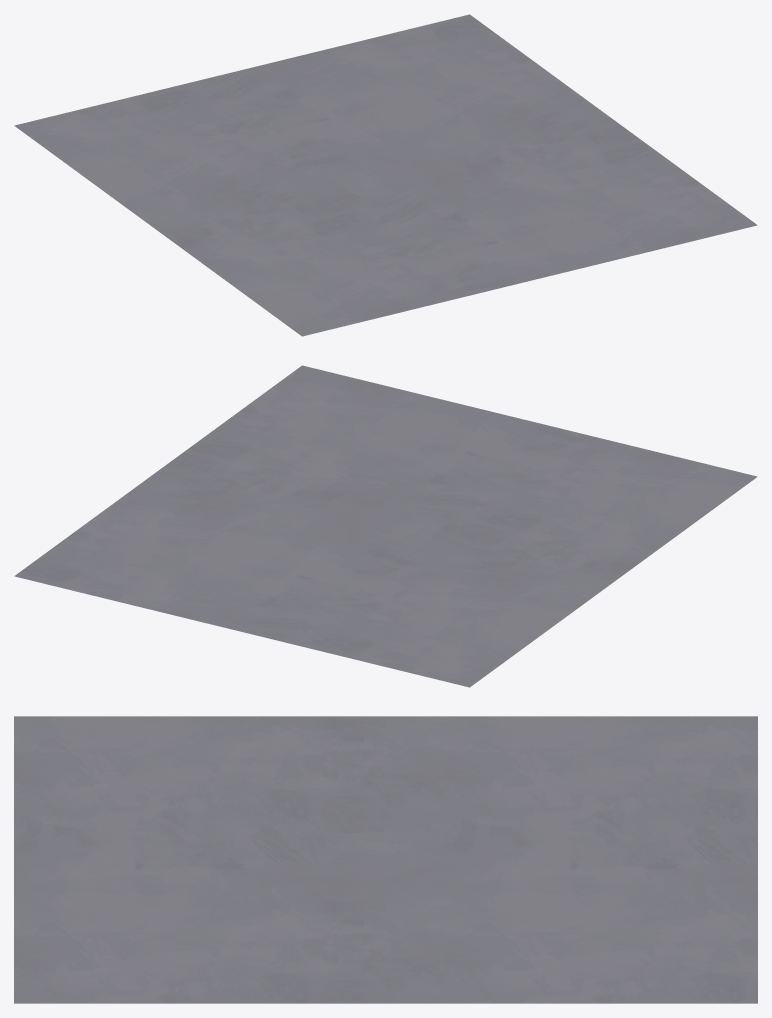
File: Diningroom_detach2.fbx
3 views of the same model, one above another, from view 1: azimuth 30°, elevation 25°; view 2: azimuth 150°, elevation 25°; view 3: azimuth 270°, elevation 25° (orthographic). The views are drawn at different scales.
Visible parts, largest first — view 1: Diningroom-detach; view 2: Diningroom-detach; view 3: Diningroom-detach.
Part boxes in pixels (box(x1,y1,x2,y2)): Diningroom-detach: box(14, 14, 757, 336); Diningroom-detach: box(14, 365, 757, 687); Diningroom-detach: box(14, 716, 757, 1003).
Bounding box in the file's own units: 50 × 0 × 54.75.
